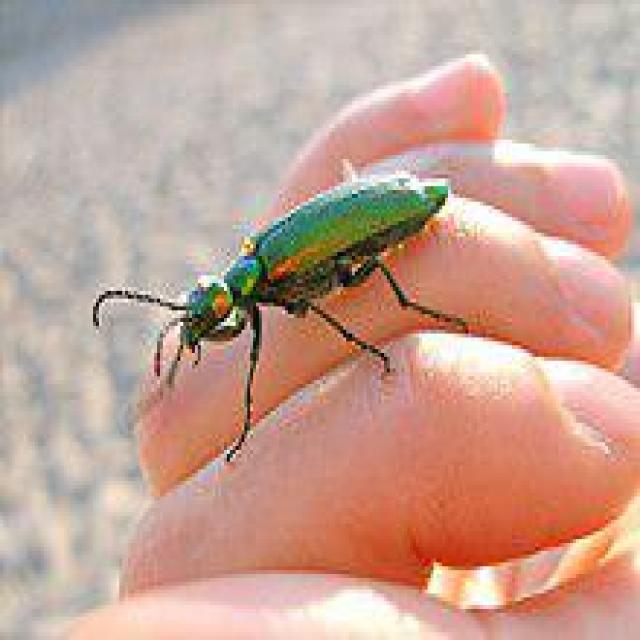BlisterBeetle-Adult-: (92, 166, 456, 438)
